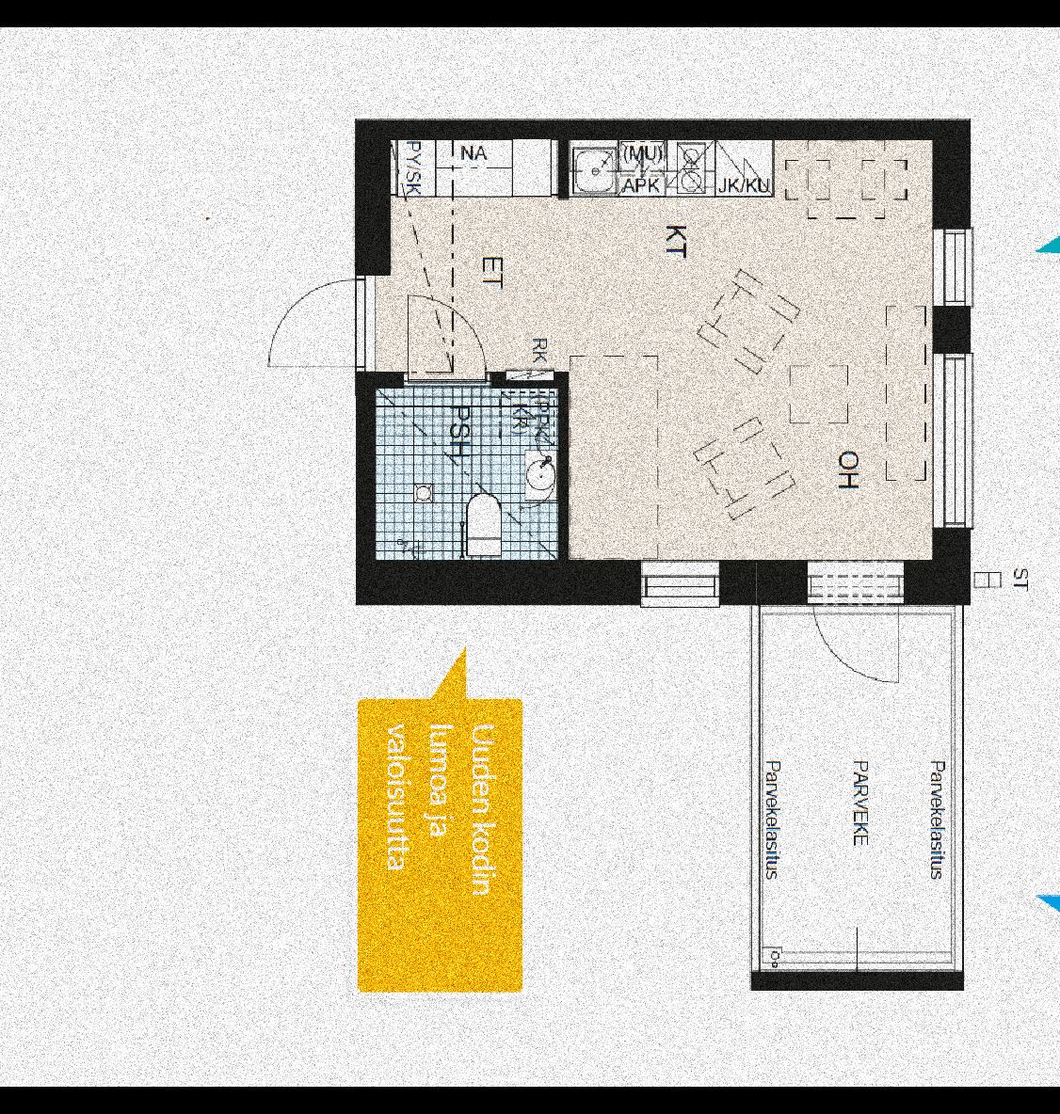door: (255, 275, 373, 383), (400, 299, 485, 389), (808, 610, 900, 680)
window: (929, 357, 967, 539), (640, 559, 715, 606), (933, 227, 967, 313)
zone: (570, 143, 933, 551), (756, 608, 962, 963), (370, 144, 567, 374), (377, 388, 555, 562)
